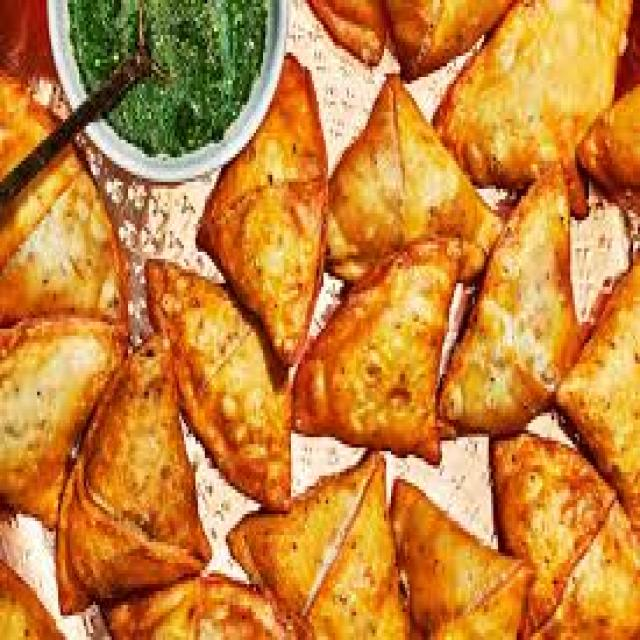SAMOSA: (56, 339, 209, 609), (198, 59, 326, 360), (440, 164, 575, 430), (326, 77, 498, 280), (296, 241, 456, 458), (149, 262, 286, 507), (230, 451, 407, 637), (0, 318, 126, 525), (491, 434, 614, 626), (0, 143, 123, 322), (391, 483, 531, 637), (559, 259, 638, 521), (0, 70, 56, 185)
